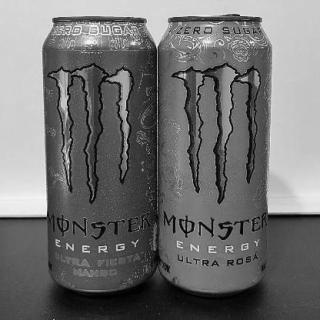alumunium_can: (157, 11, 280, 297), (40, 12, 161, 298)
